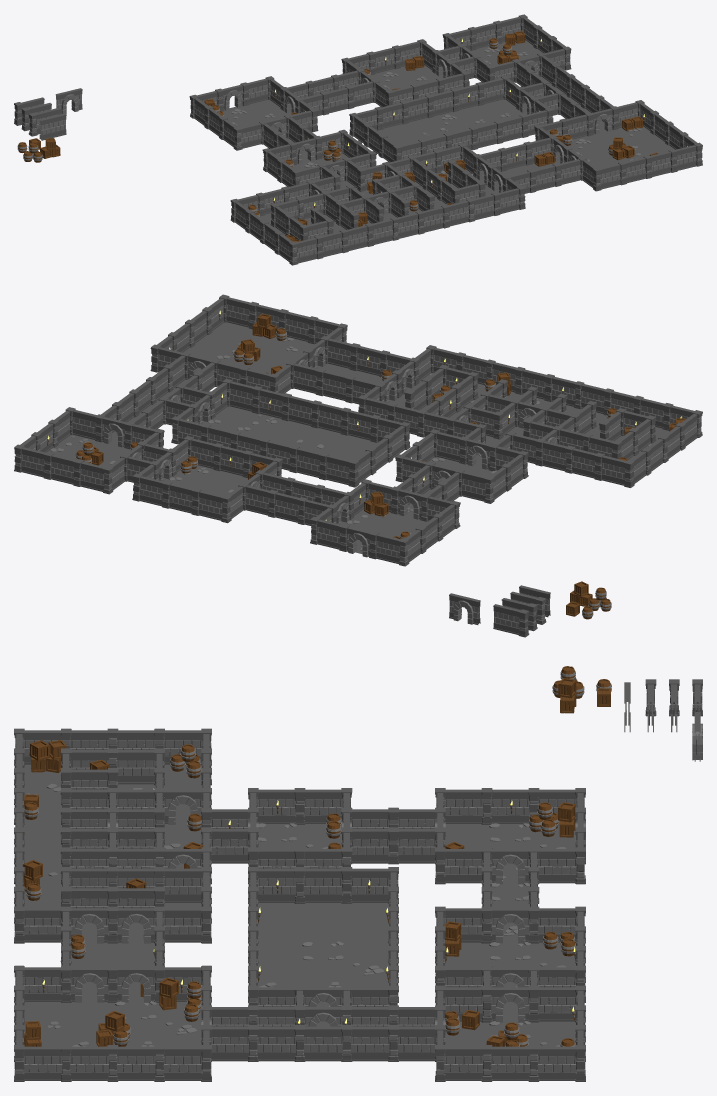
The model's file is BasicDungeon.fbx.
3 renders of one model, top to bottom at view 1: azimuth 30°, elevation 25°; view 2: azimuth 150°, elevation 25°; view 3: azimuth 270°, elevation 25°, orthographic. The views are drawn at different scales.
Parts seen in each view (by area): view 1: Cube.002, Cube.158, Cube.035, Cube.079, Cube.081, Cube.116, Cube.163, Cube.182, Cube.082, Cube.177, Cube.186, Cube.084 (+37 smaller); view 2: Cube.005, Cube.184, Cube.065, Cube.007, Cube.076, Cube.134, Cube.131, Cube.132, Cube.136, Cube.174, Cube.009, Cube.177 (+47 smaller); view 3: Cube.164, Cube.165, Cube.168, Cube.166, Cube.018, Cube.036, Cube.149, Cube.150, Cube.124, Cube.157, Cube.122, Cube.188 (+92 smaller).
Part boxes in pixels (x1,y1,x2,y2): Cube.002: (39, 113, 66, 140); Cube.158: (600, 161, 626, 189); Cube.035: (240, 78, 268, 106); Cube.079: (423, 204, 449, 232); Cube.081: (397, 210, 424, 238); Cube.116: (296, 235, 323, 263); Cube.163: (625, 155, 652, 183); Cube.182: (425, 90, 453, 118); Cube.082: (499, 186, 525, 213); Cube.177: (476, 120, 503, 148); Cube.186: (475, 78, 503, 105); Cube.084: (473, 192, 500, 220); Cube.005: (493, 604, 529, 637); Cube.184: (326, 455, 359, 487); Cube.065: (376, 534, 409, 566); Cube.007: (601, 455, 634, 487); Cube.076: (461, 471, 494, 503); Cube.134: (73, 459, 104, 491); Cube.131: (191, 488, 222, 520); Cube.132: (162, 480, 193, 513); Cube.136: (14, 444, 45, 477); Cube.174: (311, 400, 342, 433); Cube.009: (572, 448, 604, 480); Cube.177: (281, 393, 312, 425); Cube.164: (304, 1025, 352, 1061); Cube.165: (257, 1025, 305, 1061); Cube.168: (350, 1025, 398, 1061); Cube.166: (210, 1025, 258, 1061); Cube.018: (388, 827, 436, 864); Cube.036: (538, 847, 585, 884); Cube.149: (435, 1045, 482, 1081); Cube.150: (481, 1045, 529, 1081); Cube.124: (107, 1045, 155, 1081); Cube.157: (154, 1045, 202, 1081); Cube.122: (60, 1045, 108, 1081); Cube.188: (294, 867, 342, 903).
Size of the model in its own units: 7993 by 316 by 5892.
